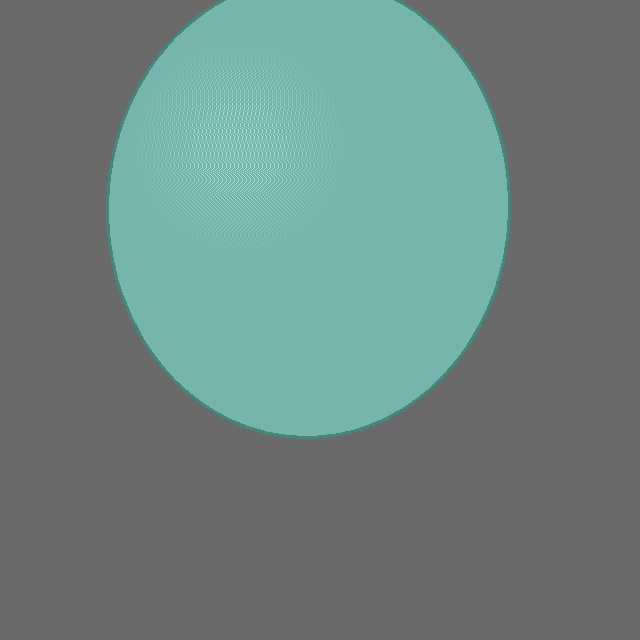lens: (107, 0, 509, 437)
